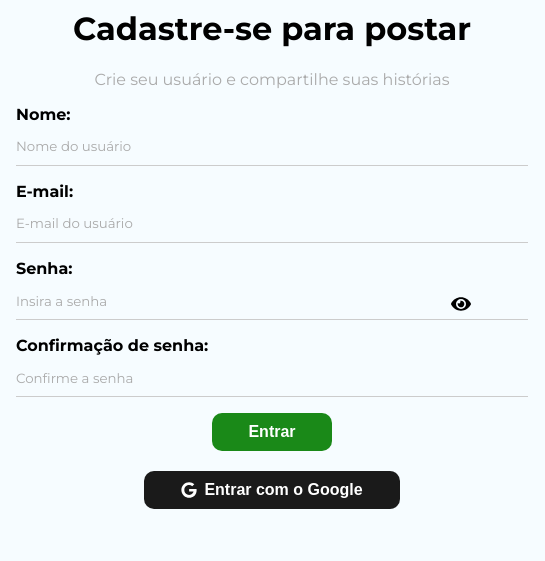
Test: Register Page › deve exibir mensagem de erro quando as senhas não coincidem
This screenshot has width=545, height=561.
In the field with placeholder "Nome do usuário": [272, 147] box [16,129,528,166], type "Test User"
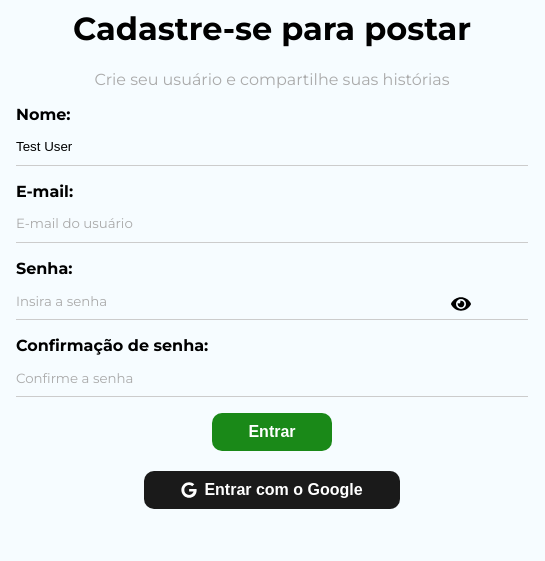
In the field with placeholder "E-mail do usuário": [272, 224] box [16,206,528,243], type "test@example.com"
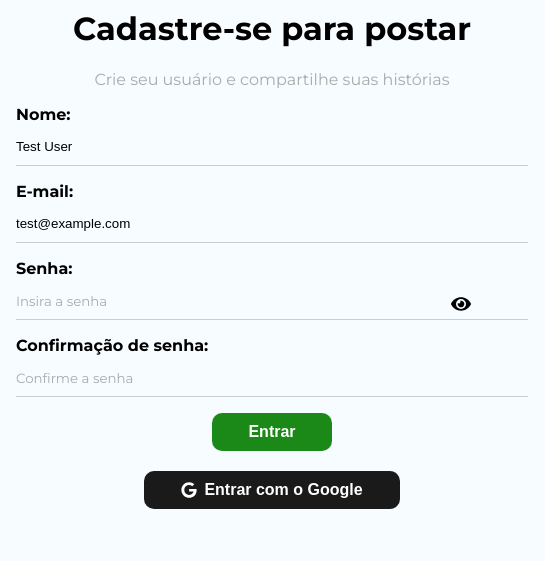
In the password field with placeholder "Insira a senha": [272, 302] box [16,283,528,320], type "password123"
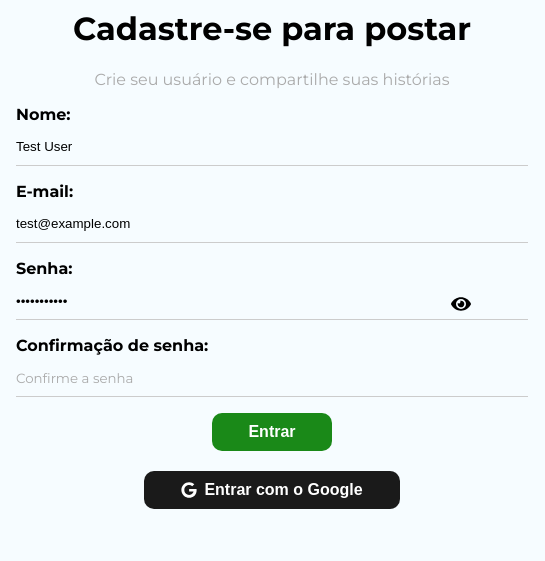
In the password field with placeholder "Confirme a senha": [272, 379] box [16,360,528,397], type "differentPassword"
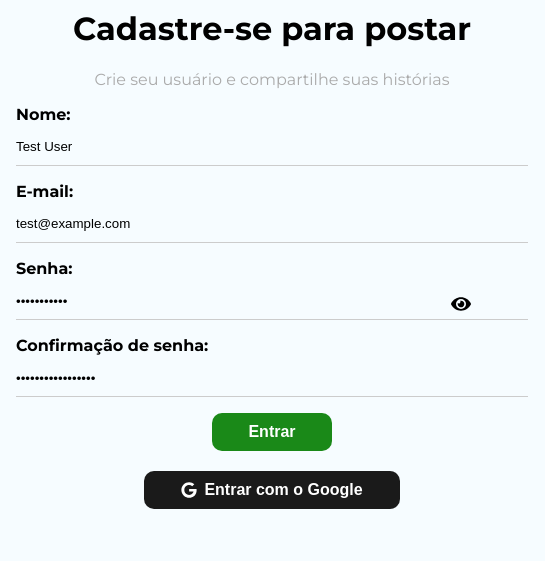
Click the button "Entrar": [272, 432] box [212,413,332,451]
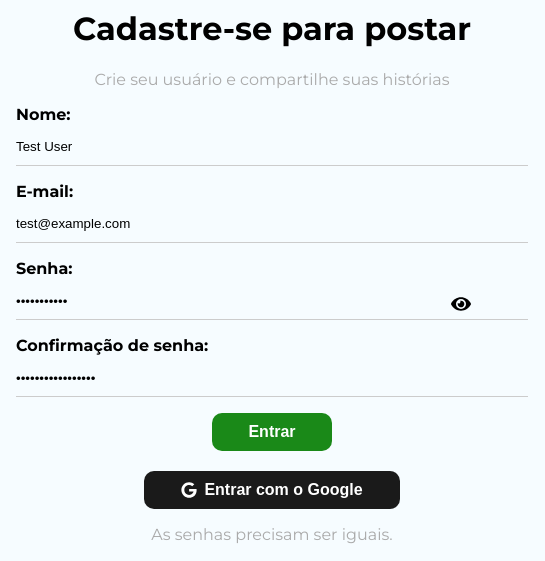
Expected: the text "As senhas precisam ser iguais." is shown, [151,525,393,544]
